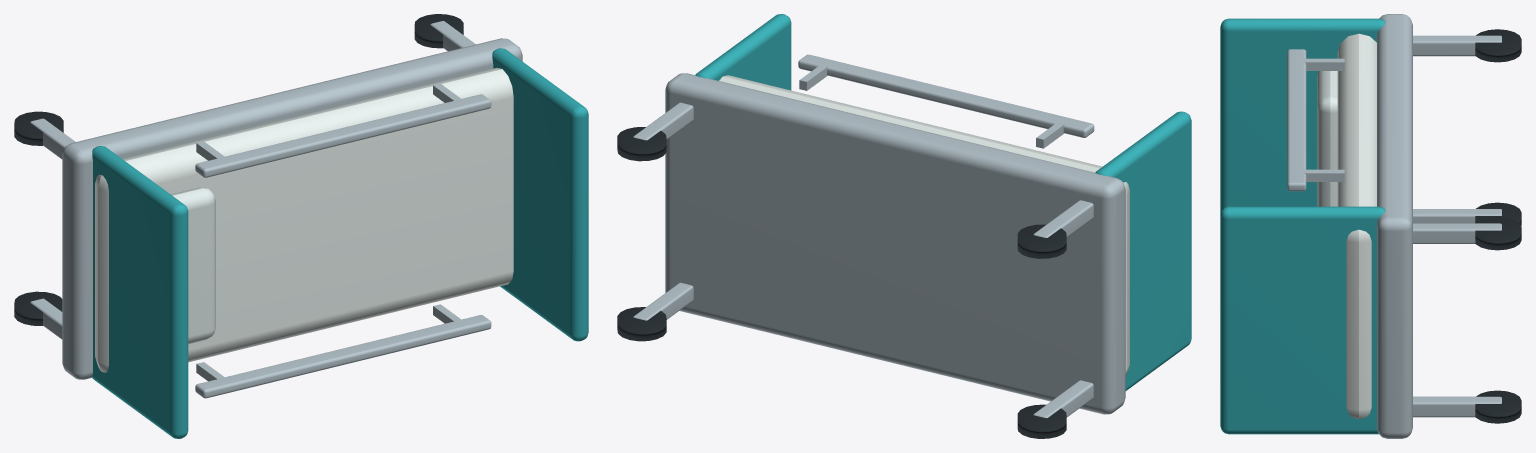
File: hero_hospital_bed.glb
The picture shows the model from 3 angles, left to right: view 1: azimuth 30°, elevation 25°; view 2: azimuth 150°, elevation 25°; view 3: azimuth 270°, elevation 25°; orthographic projection. The views are drawn at different scales.
Visible parts, largest first — view 1: Sanitary mattress, Bed end panel, Bed end panel.001, Medical bed frame, Fold-down bed safety rail.001, Fold-down bed safety rail, Pillow, Bed caster.001, Bed caster.003, Bed caster, Bed leg.001, Bed leg (+1 smaller); view 2: Medical bed frame, Bed end panel, Fold-down bed safety rail.001, Sanitary mattress, Bed end panel.001, Bed caster.002, Bed caster.001, Bed caster, Bed caster.003, Bed leg.003, Bed leg, Bed leg.002 (+1 smaller); view 3: Bed end panel.001, Bed end panel, Medical bed frame, Sanitary mattress, Fold-down bed safety rail.001, Pillow, Bed leg.001, Bed leg.002, Bed leg.003, Bed caster.001, Bed caster.003, Bed caster.002 (+4 smaller).
Part boxes in pixels (left/top/right/bottom): Sanitary mattress: left=95, top=68, right=513, bottom=372; Bed end panel: left=92, top=146, right=188, bottom=438; Bed end panel.001: left=492, top=48, right=588, bottom=341; Medical bed frame: left=62, top=38, right=522, bottom=379; Fold-down bed safety rail.001: left=195, top=94, right=491, bottom=177; Fold-down bed safety rail: left=195, top=315, right=491, bottom=398; Pillow: left=171, top=187, right=215, bottom=344; Bed caster.001: left=14, top=111, right=63, bottom=145; Bed caster.003: left=414, top=14, right=463, bottom=48; Bed caster: left=14, top=291, right=62, bottom=325; Bed leg.001: left=30, top=118, right=75, bottom=159; Bed leg: left=30, top=298, right=62, bottom=339; Medical bed frame: left=665, top=73, right=1125, bottom=414; Bed end panel: left=1095, top=111, right=1191, bottom=390; Fold-down bed safety rail.001: left=798, top=54, right=1094, bottom=137; Sanitary mattress: left=719, top=75, right=1129, bottom=375; Bed end panel.001: left=695, top=14, right=791, bottom=90; Bed caster.002: left=617, top=307, right=666, bottom=341; Bed caster.001: left=1017, top=224, right=1066, bottom=258; Bed caster: left=1017, top=404, right=1066, bottom=438; Bed caster.003: left=617, top=127, right=666, bottom=161; Bed leg.003: left=633, top=102, right=693, bottom=140; Bed leg: left=1033, top=380, right=1093, bottom=418; Bed leg.002: left=633, top=282, right=693, bottom=320; Bed end panel.001: left=1220, top=206, right=1385, bottom=434; Bed end panel: left=1220, top=18, right=1385, bottom=213; Medical bed frame: left=1377, top=14, right=1412, bottom=438; Sanitary mattress: left=1337, top=33, right=1376, bottom=419; Fold-down bed safety rail.001: left=1287, top=49, right=1306, bottom=191; Pillow: left=1317, top=71, right=1337, bottom=206; Bed leg.001: left=1413, top=35, right=1501, bottom=56; Bed leg.002: left=1413, top=396, right=1501, bottom=417; Bed leg.003: left=1413, top=223, right=1501, bottom=243; Bed caster.001: left=1475, top=29, right=1521, bottom=62; Bed caster.003: left=1475, top=217, right=1521, bottom=250; Bed caster.002: left=1475, top=390, right=1521, bottom=423.
Size of the model in its own units: 2.09 by 1.04 by 1.26.
